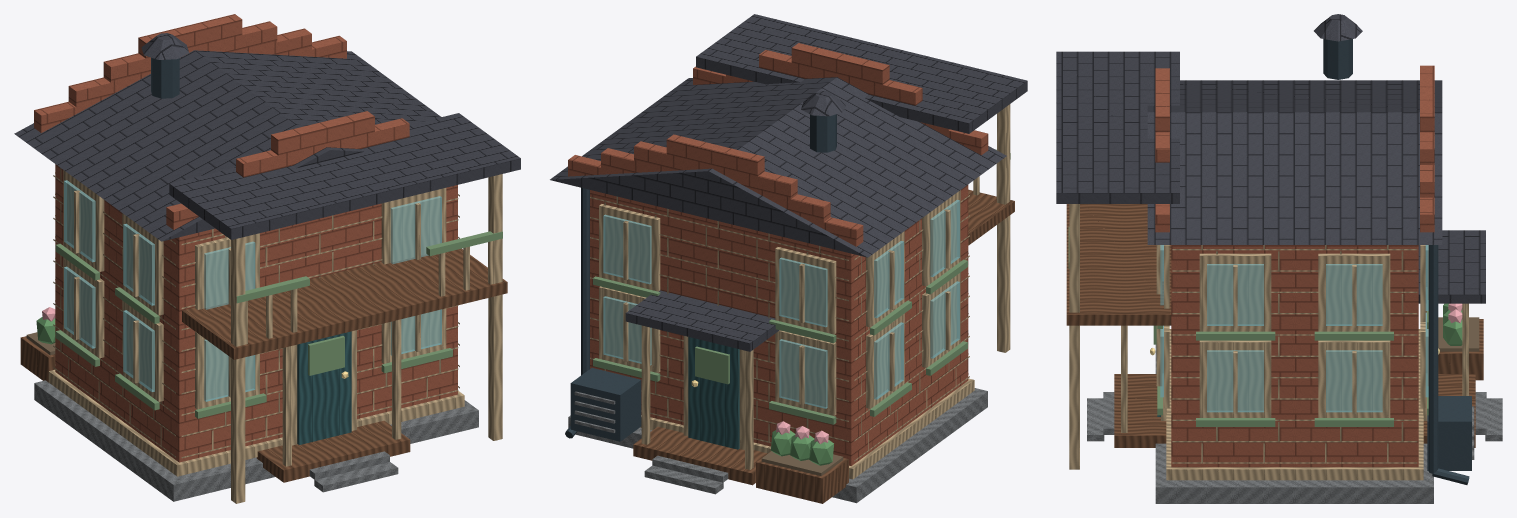
File: house_townhouse_lv2_balcony.glb
3 views of the same model, side by side, from view 1: azimuth 30°, elevation 25°; view 2: azimuth 150°, elevation 25°; view 3: azimuth 270°, elevation 25° (orthographic). The views are drawn at different scales.
Visible parts, largest first — view 1: gable_roof, walls, balcony_roof, balcony_floor, foundation, floor_trim, front_door, front_deck, balcony_pillar, front_window_frame.003, balcony_pillar.001, front_window_frame.002 (+34 smaller); view 2: gable_roof, walls, balcony_roof, back_porch_canopy, foundation, back_door, back_window_frame.002, back_window_frame.003, back_window_frame, back_ac_unit, back_deck, balcony_pillar (+38 smaller); view 3: gable_roof, walls, balcony_roof, balcony_floor, foundation, right_window_frame.003, right_window_frame.002, right_window_frame.001, right_window_frame, floor_trim, back_porch_canopy, right_window_glass (+30 smaller).
Part boxes in pixels (left/top/right/bottom): gable_roof: left=14, top=50, right=441, bottom=241; walls: left=55, top=164, right=457, bottom=462; balcony_roof: left=169, top=113, right=520, bottom=239; balcony_floor: left=182, top=248, right=507, bottom=359; foundation: left=34, top=380, right=478, bottom=501; floor_trim: left=48, top=369, right=464, bottom=476; front_door: left=297, top=331, right=351, bottom=444; front_deck: left=256, top=420, right=410, bottom=482; balcony_pillar: left=231, top=237, right=245, bottom=503; front_window_frame.003: left=381, top=188, right=446, bottom=264; balcony_pillar.001: left=488, top=174, right=502, bottom=440; front_window_frame.002: left=195, top=233, right=259, bottom=309; gable_roof: left=550, top=77, right=1006, bottom=257; walls: left=590, top=184, right=968, bottom=465; balcony_roof: left=696, top=14, right=1027, bottom=133; back_porch_canopy: left=625, top=290, right=779, bottom=351; foundation: left=568, top=388, right=987, bottom=503; back_door: left=688, top=337, right=739, bottom=449; back_window_frame.002: left=775, top=247, right=836, bottom=334; back_window_frame.003: left=599, top=204, right=660, bottom=291; back_window_frame: left=775, top=330, right=836, bottom=415; back_ac_unit: left=570, top=368, right=641, bottom=441; back_deck: left=633, top=426, right=767, bottom=485; balcony_pillar: left=997, top=104, right=1010, bottom=352; gable_roof: left=1147, top=80, right=1442, bottom=244; walls: left=1171, top=245, right=1418, bottom=467; balcony_roof: left=1056, top=51, right=1179, bottom=203; balcony_floor: left=1066, top=204, right=1171, bottom=325; foundation: left=1155, top=344, right=1433, bottom=503; right_window_frame.003: left=1318, top=253, right=1390, bottom=331; right_window_frame.002: left=1199, top=253, right=1271, bottom=331; right_window_frame.001: left=1318, top=340, right=1390, bottom=417; right_window_frame: left=1199, top=340, right=1271, bottom=417; floor_trim: left=1166, top=329, right=1423, bottom=480; back_porch_canopy: left=1418, top=230, right=1485, bottom=303; right_window_glass: left=1207, top=350, right=1263, bottom=412.
Size of the model in its own units: 3.15 by 3.37 by 3.61.
Materials: 13 (7 with a texture image).
